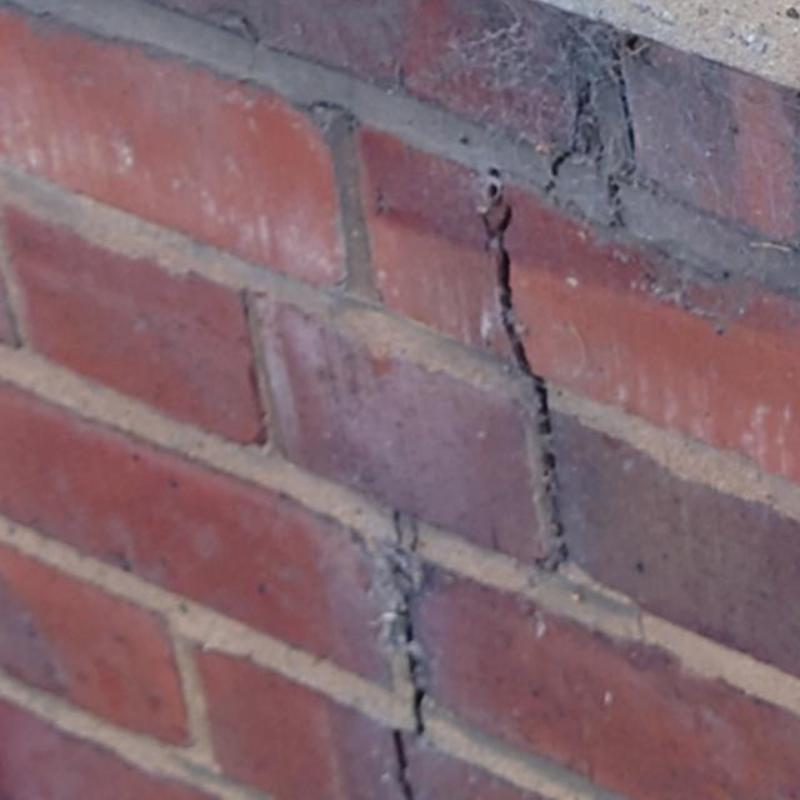pothole: (478, 169, 566, 569), (606, 29, 641, 226), (545, 81, 591, 194), (404, 592, 425, 734), (304, 100, 360, 124), (396, 730, 415, 799), (410, 515, 419, 554), (395, 509, 401, 548)
